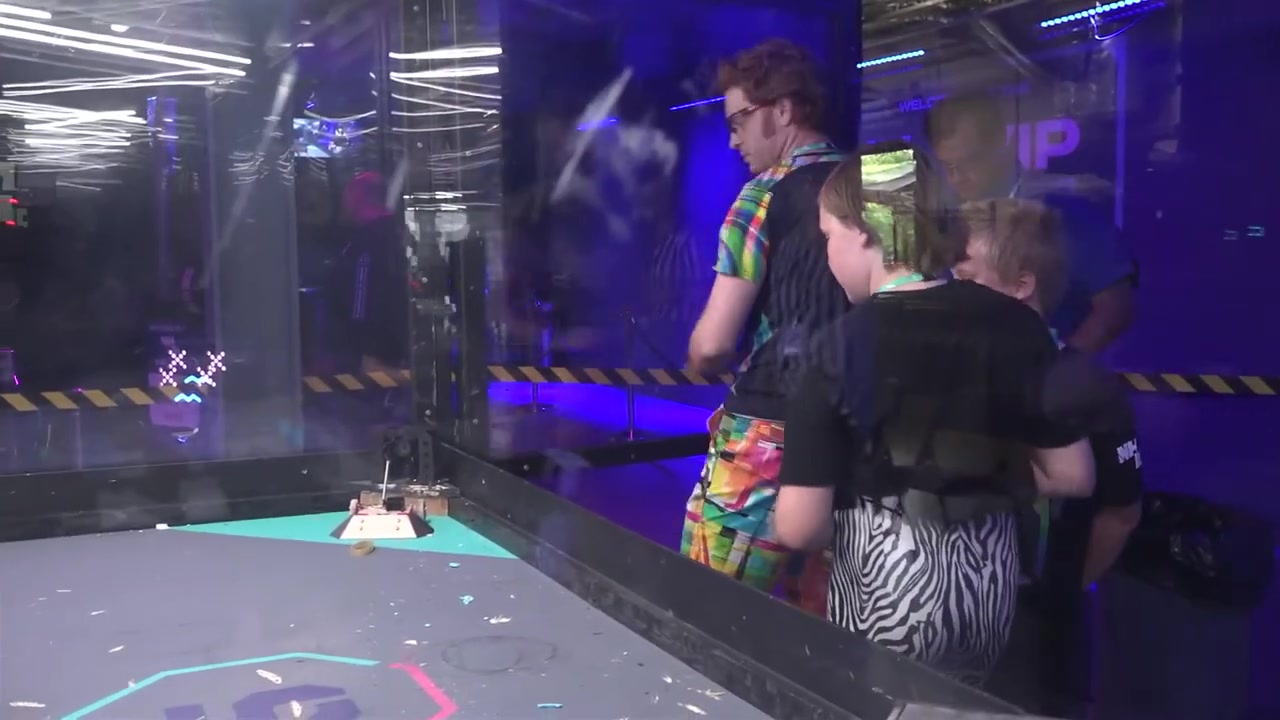combatbot: (331, 492, 434, 542)
